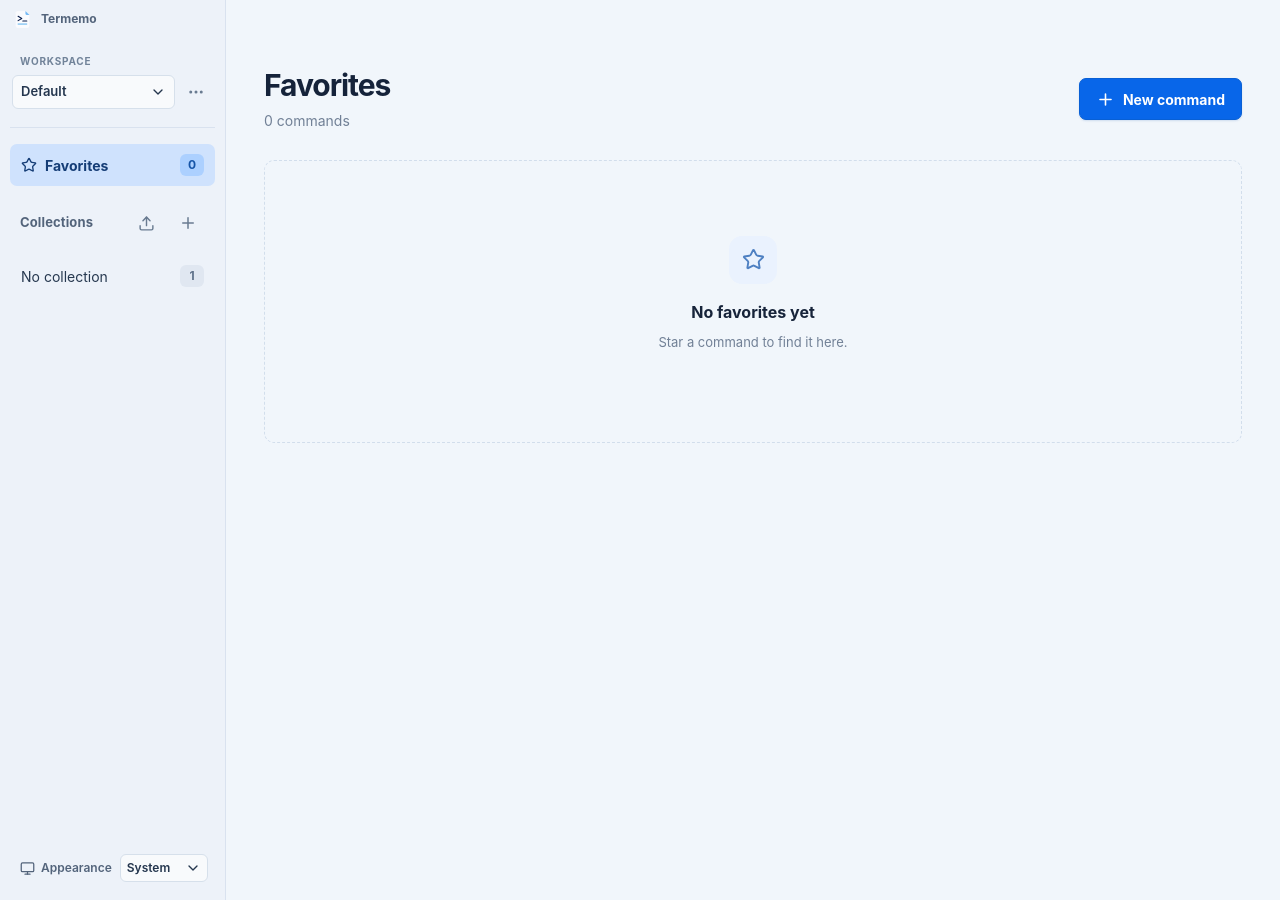
Test case: does not update favorites if saving fails
What coordinates should you click on to do the following:
click the button with aria-label "No collection, 1 command"
I would click on:
 (112, 276)
Its box is [10,255,215,297].
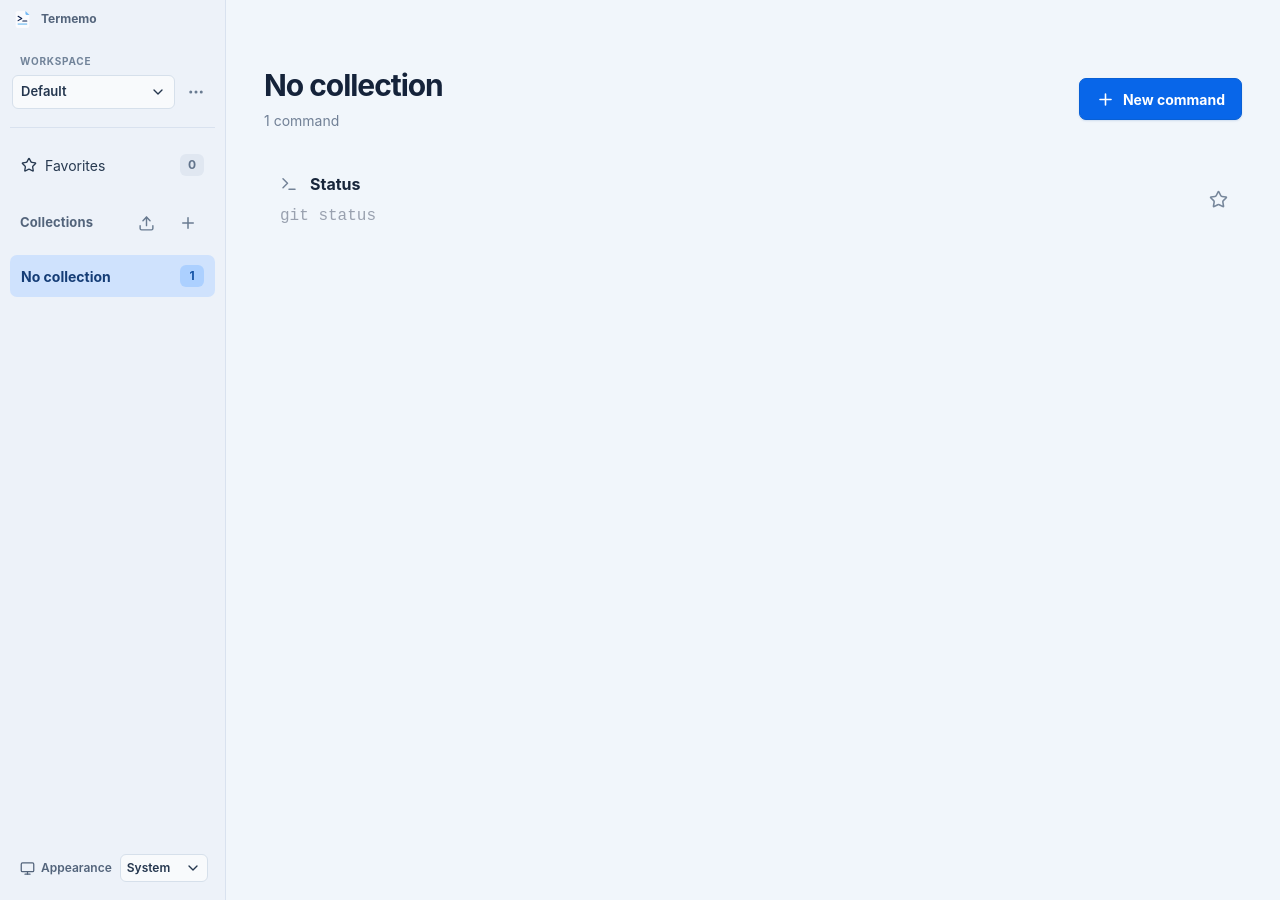
What coordinates should you click on to do the following:
click the button named "Add Status to favorites"
I would click on:
 (1218, 200)
Its box is [1206,188,1230,212].
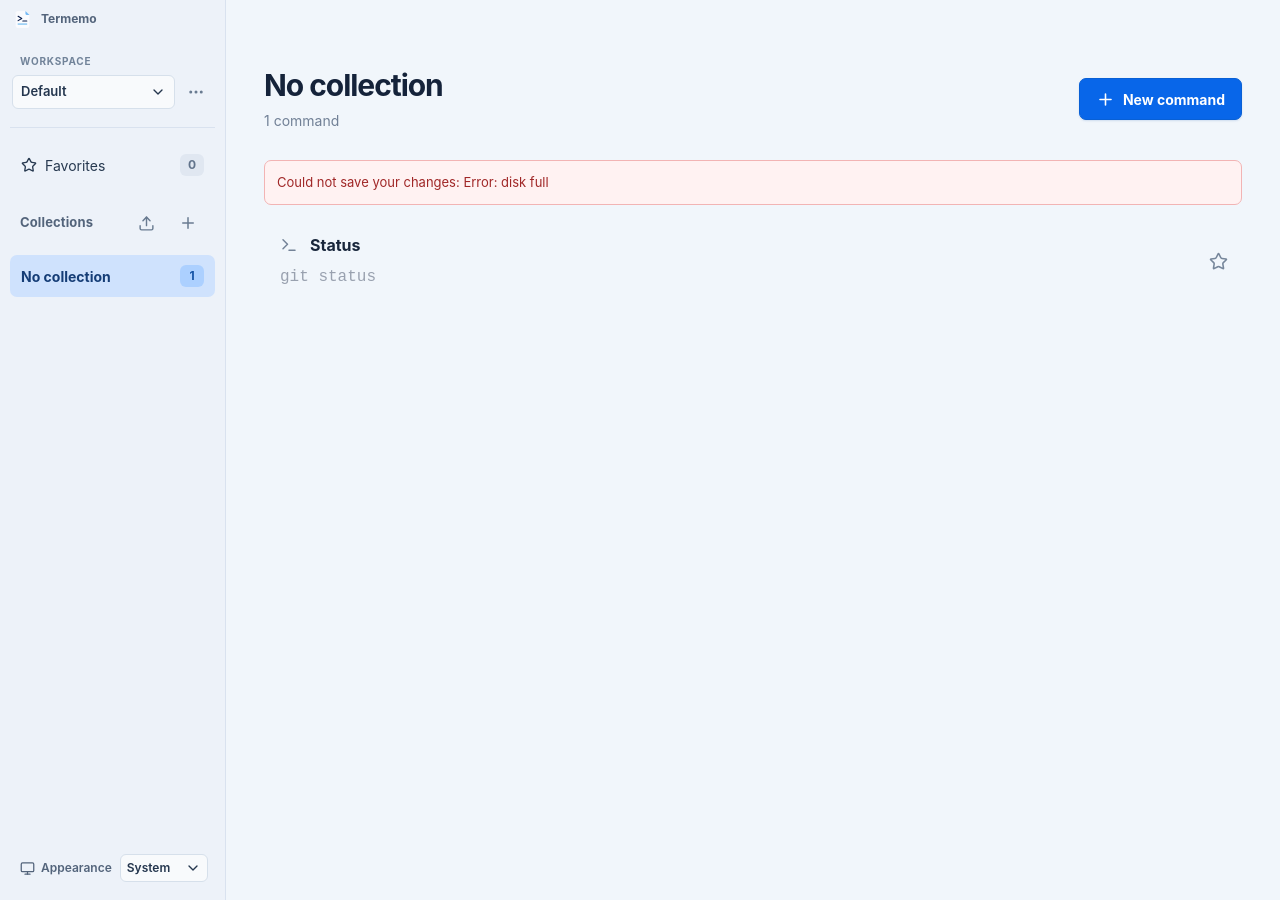
expect the button named "Add Status to favorites" is shown: met, box [1206,249,1230,273]
expect the message shows "disk full": met, box [277,174,549,190]
